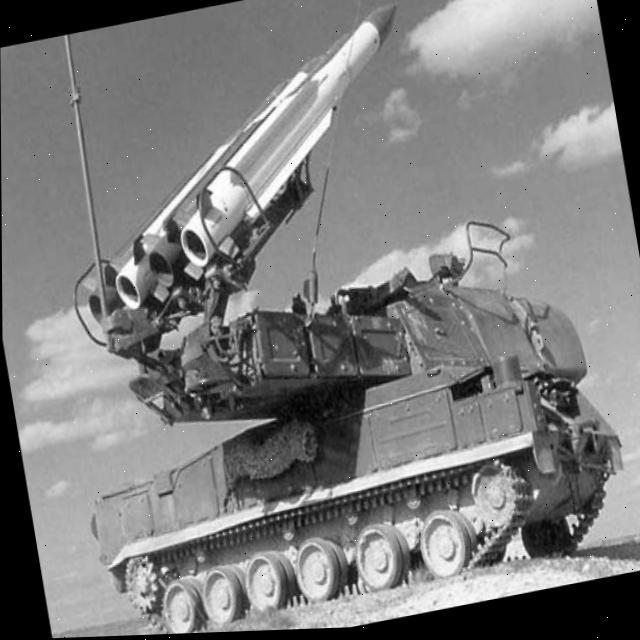missile: (145, 2, 438, 277)
